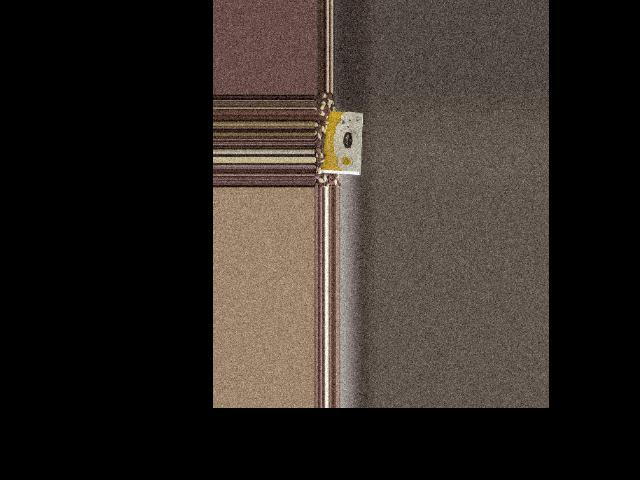chocolate: (319, 107, 365, 177)
